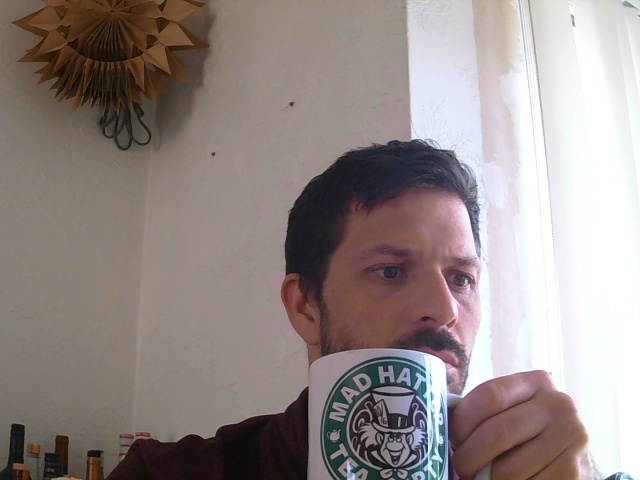mug: (309, 351, 450, 480)
